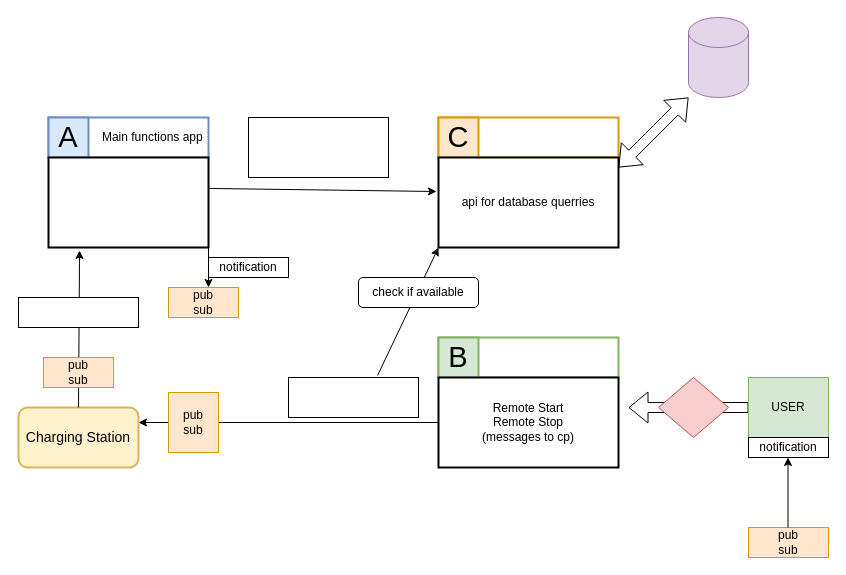
Image size: 846x575. Some labels were removed from this diagram. Each missing label, with the box of its shape:
Connect Disconnected Message(from cp): (47, 156, 209, 248)
COSMOS functions app: (437, 116, 619, 158)
DB: (688, 16, 748, 98)
OAuth2: (658, 376, 728, 438)
remote start transaction: (288, 376, 418, 418)
save new transaction: (248, 116, 388, 178)
start transaction: (18, 296, 138, 328)
User functions app: (437, 336, 619, 378)
